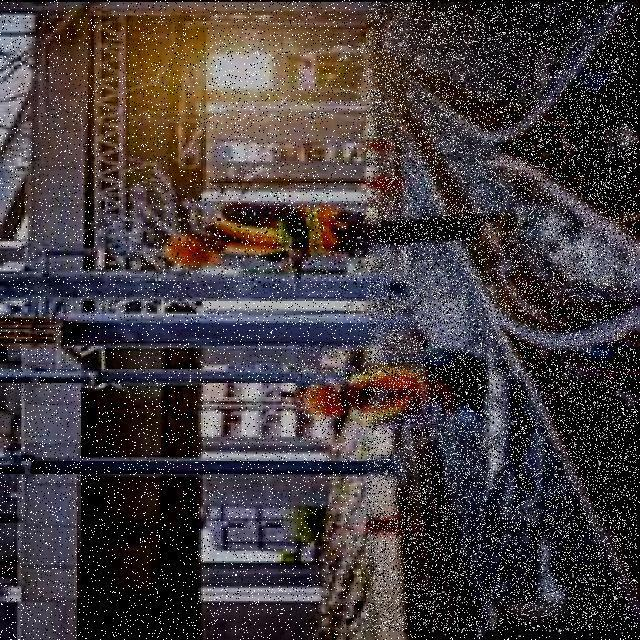danger: (157, 194, 517, 288), (296, 343, 476, 440)
rail: (368, 4, 637, 631)
